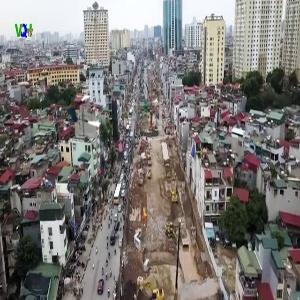drone: (60, 94, 104, 138)
